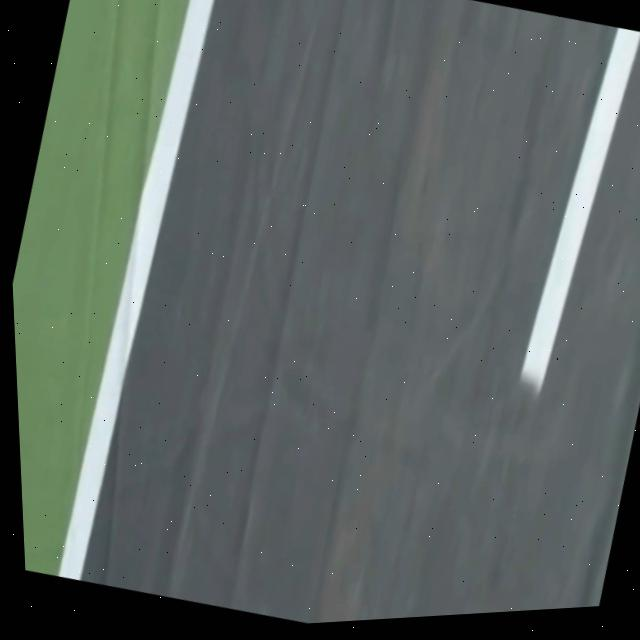center: (521, 27, 640, 392)
right: (58, 0, 214, 580)
